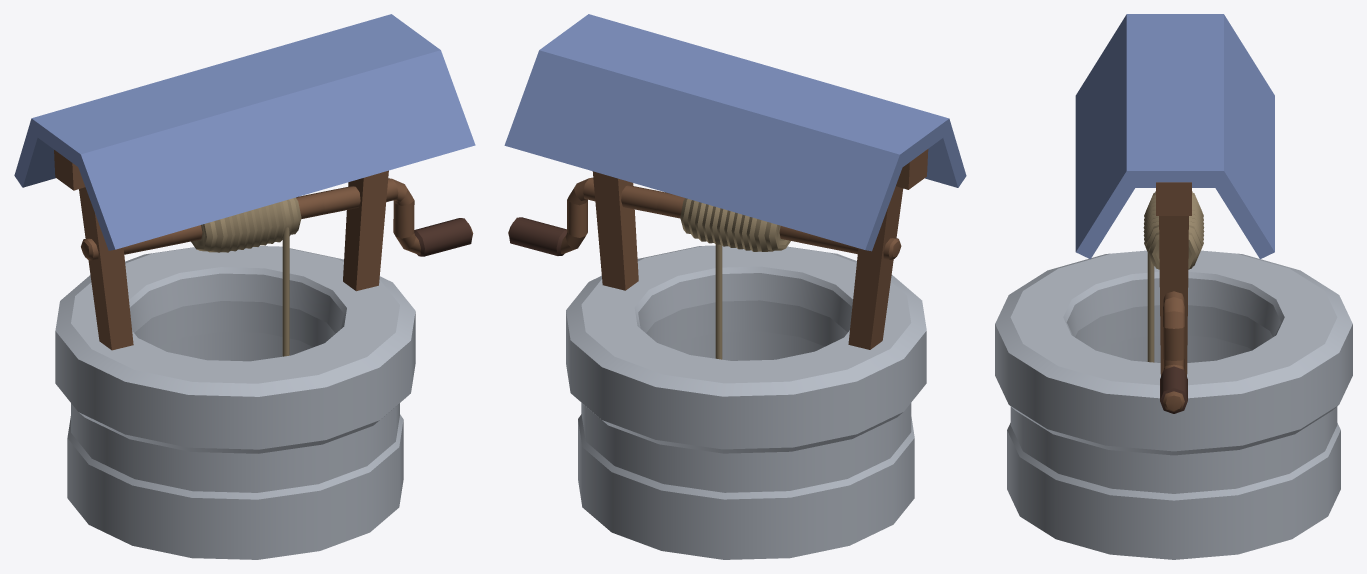
The model's file is Well (1).fbx.
3 views of the same model, side by side, from view 1: azimuth 30°, elevation 25°; view 2: azimuth 150°, elevation 25°; view 3: azimuth 270°, elevation 25° (orthographic).
Parts seen in each view (by area): view 1: Well; view 2: Well; view 3: Well.
Boxes of the visible parts, bbox=[...] form: Well: bbox=[14, 14, 475, 559]; Well: bbox=[504, 14, 966, 559]; Well: bbox=[995, 14, 1352, 559].
Bounding box in the file's own units: 296 × 282 × 226.
